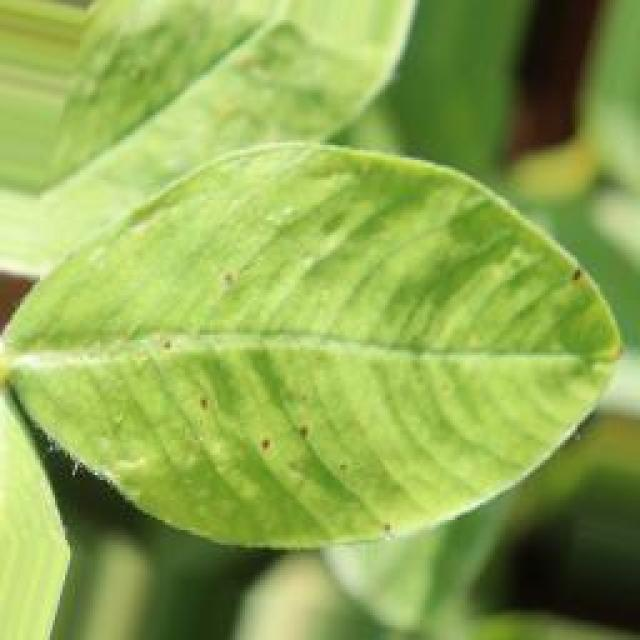Sigatoka: (238, 414, 321, 476), (587, 322, 640, 394), (550, 251, 608, 302), (154, 328, 214, 368), (217, 275, 266, 302)
